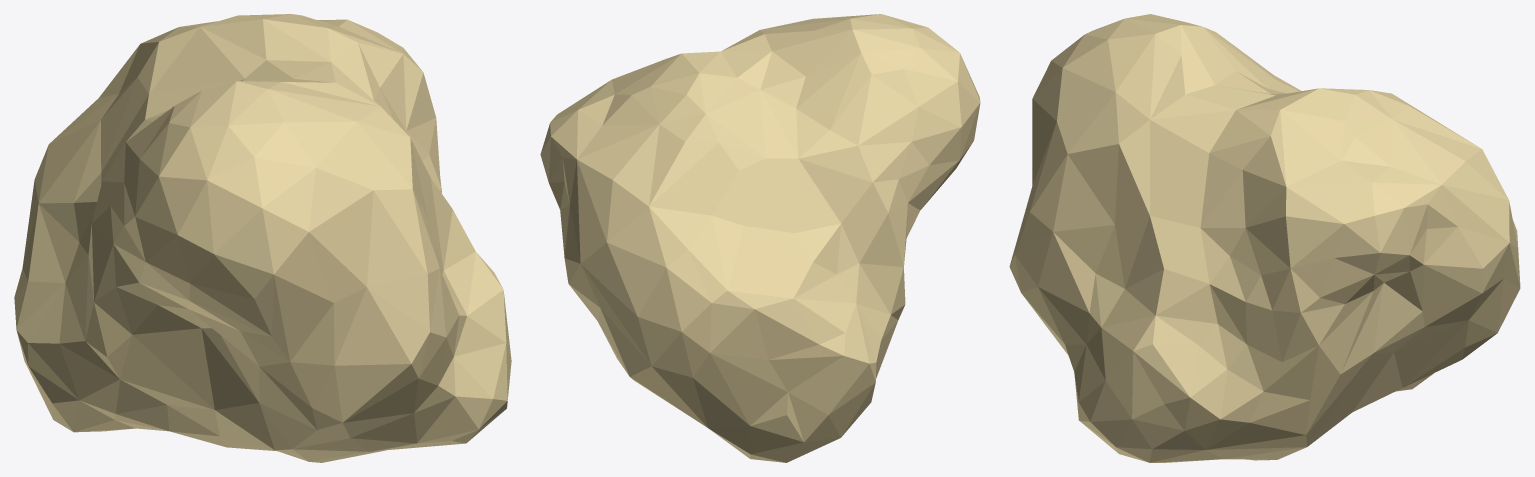
Rendered from Asteroid (48).fbx.
The picture shows the model from 3 angles, left to right: view 1: azimuth 30°, elevation 25°; view 2: azimuth 150°, elevation 25°; view 3: azimuth 270°, elevation 25°; orthographic projection. The views are drawn at different scales.
Visible parts, largest first — view 1: Asteroid109; view 2: Asteroid109; view 3: Asteroid109.
Boxes of the visible parts, box(x1,y1,x2,y2) form: Asteroid109: box(14, 14, 511, 462); Asteroid109: box(540, 14, 980, 462); Asteroid109: box(1009, 14, 1520, 462).
Bounding box in the file's own units: 186 × 197 × 237.
